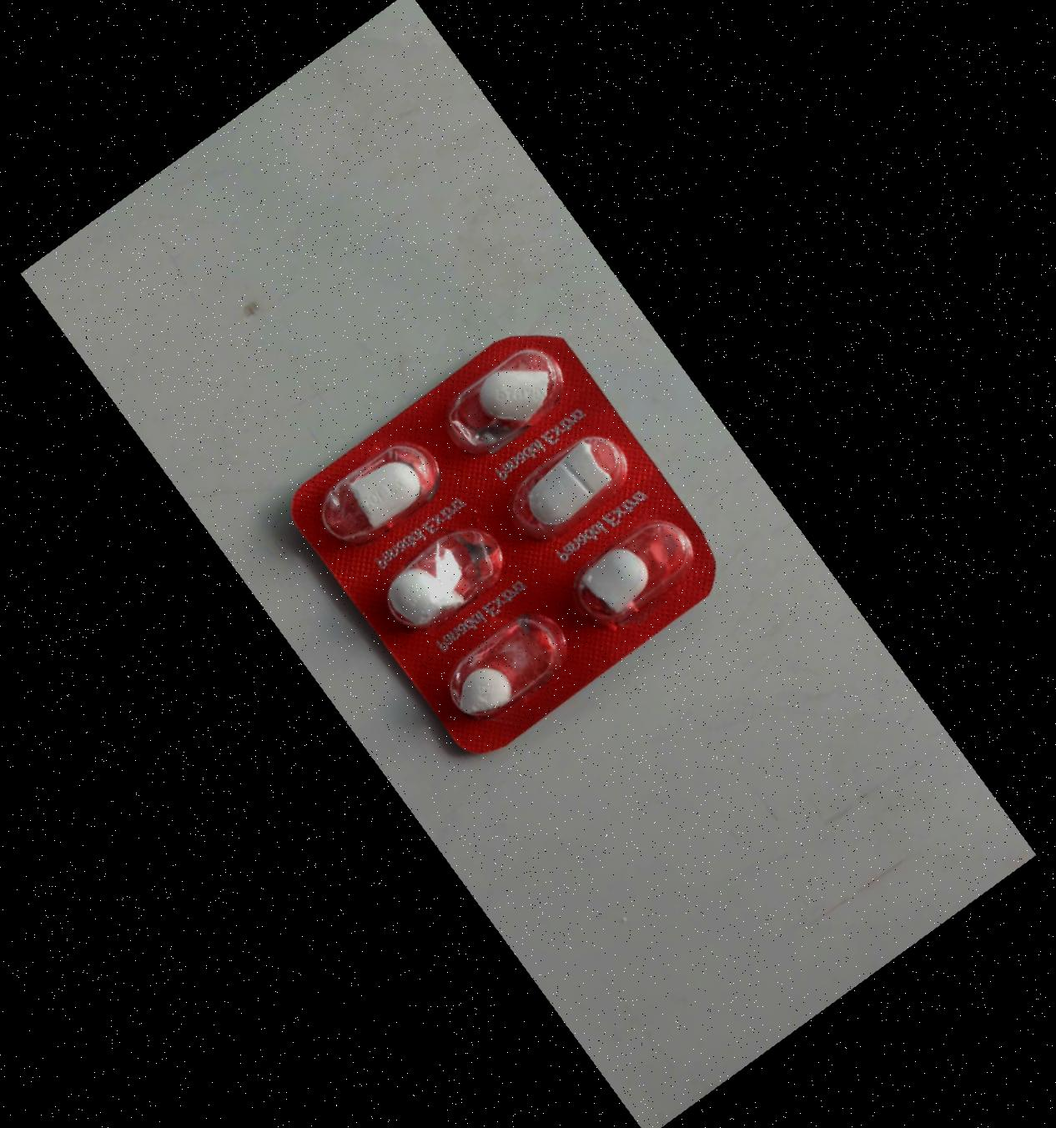Partial: (556, 497, 713, 638), (428, 593, 585, 733), (490, 416, 647, 556), (434, 330, 591, 470), (313, 424, 470, 564), (372, 507, 529, 647)
